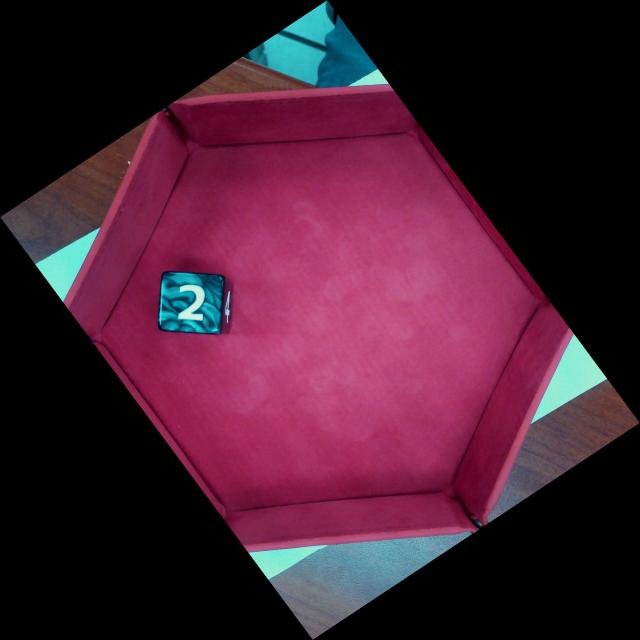dice: (162, 273, 224, 331)
